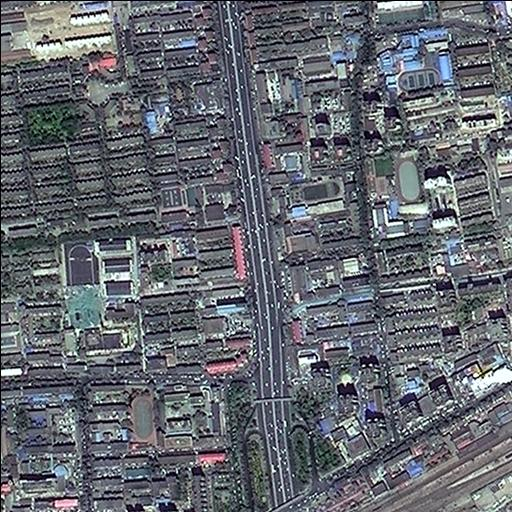school: (61, 237, 136, 358), (128, 383, 227, 449), (262, 166, 347, 223), (156, 185, 203, 234), (398, 52, 453, 92)
